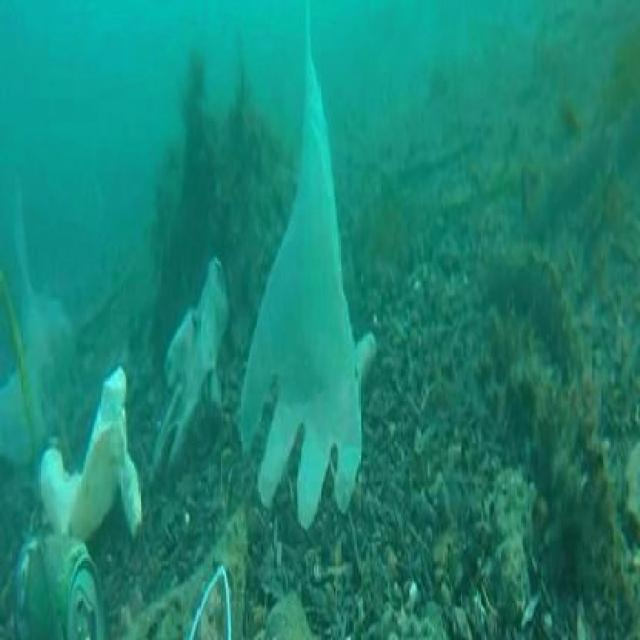glove: (247, 8, 376, 542), (152, 248, 233, 503)
